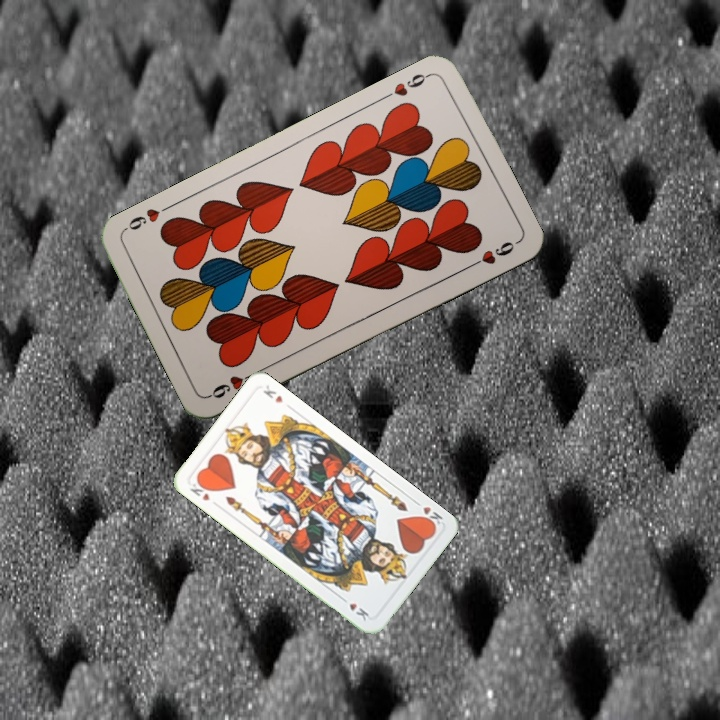H9: (205, 367, 260, 401), (379, 69, 434, 102)
HK: (410, 496, 445, 530), (186, 475, 214, 503)
